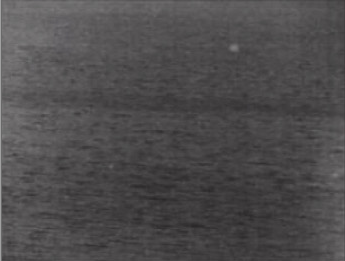Target: (230, 45, 237, 51)
